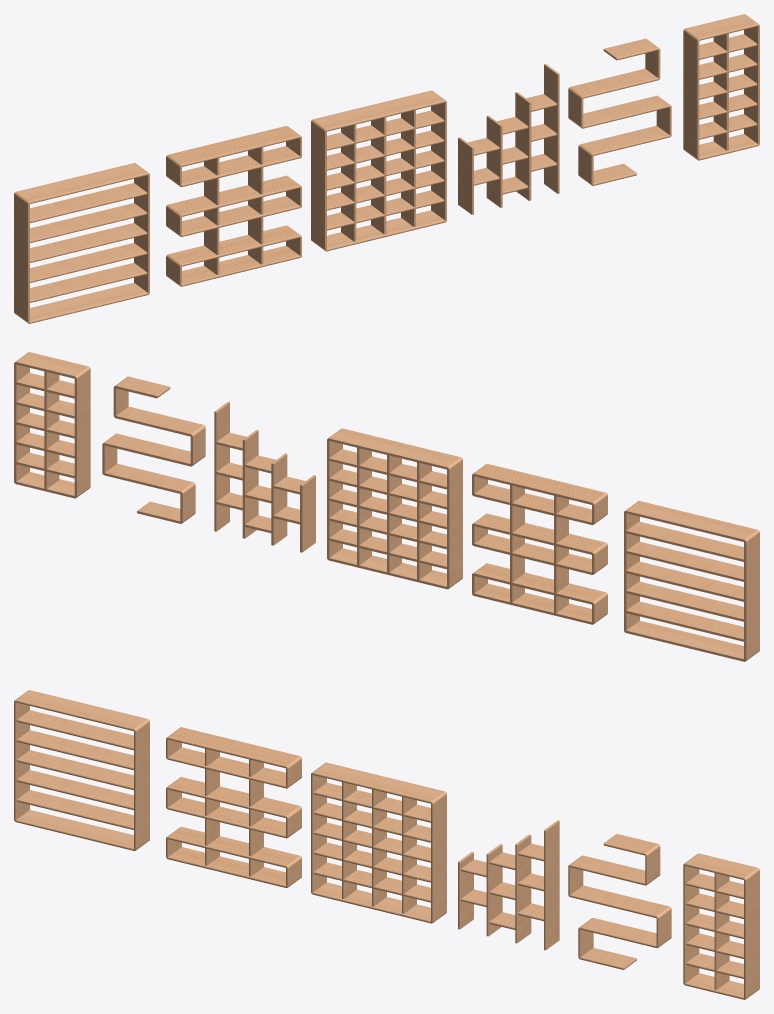
The model's file is wooden shelves.obj.
3 views of the same model, one above another, from view 1: azimuth 30°, elevation 25°; view 2: azimuth 150°, elevation 25°; view 3: azimuth 330°, elevation 25° (orthographic).
Visible parts, largest first — view 1: shelf_3, shelf_1, shelf_2, shelf_4, shelf_5, shelf_6; view 2: shelf_3, shelf_1, shelf_2, shelf_4, shelf_5, shelf_6; view 3: shelf_3, shelf_1, shelf_2, shelf_4, shelf_5, shelf_6.
Part boxes in pixels (bbox=[...]): shelf_3: bbox=[311, 90, 446, 251]; shelf_1: bbox=[14, 163, 149, 323]; shelf_2: bbox=[166, 126, 301, 286]; shelf_4: bbox=[683, 14, 759, 160]; shelf_5: bbox=[458, 64, 559, 214]; shelf_6: bbox=[568, 38, 671, 185]; shelf_3: bbox=[327, 428, 462, 589]; shelf_1: bbox=[624, 501, 759, 661]; shelf_2: bbox=[472, 464, 607, 624]; shelf_4: bbox=[14, 352, 90, 498]; shelf_5: bbox=[214, 401, 315, 552]; shelf_6: bbox=[102, 376, 205, 523]; shelf_3: bbox=[311, 762, 446, 923]; shelf_1: bbox=[14, 690, 149, 850]; shelf_2: bbox=[166, 727, 301, 887]; shelf_4: bbox=[683, 853, 759, 999]; shelf_5: bbox=[458, 820, 559, 950]; shelf_6: bbox=[568, 834, 671, 969].
Size of the model in its own units: 768 by 122 by 25.44.
1 material, 1 textured.
